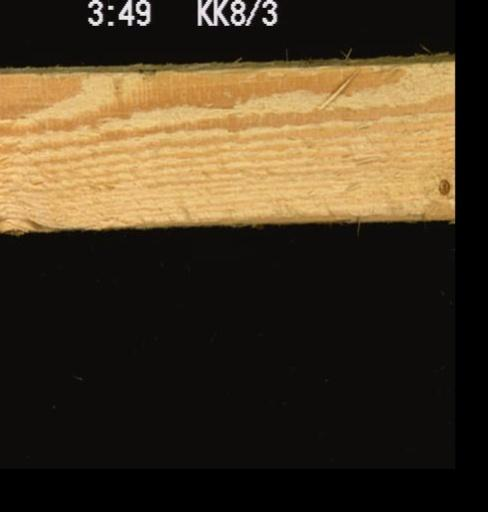dry_knot: (435, 174, 452, 196)
wave: (222, 210, 454, 226)
